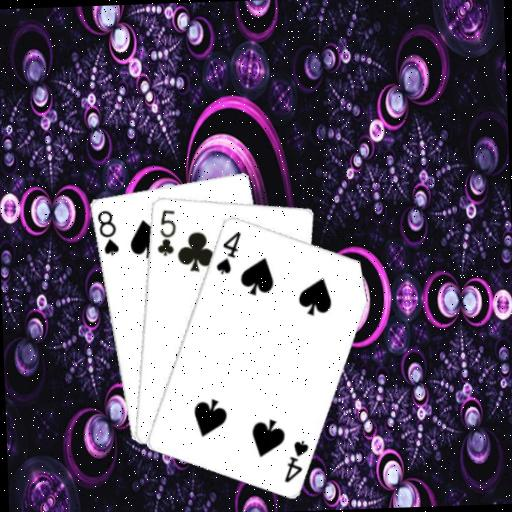4S: (211, 228, 243, 276), (279, 436, 311, 484)
5C: (152, 205, 177, 257)
8S: (94, 206, 120, 257)
